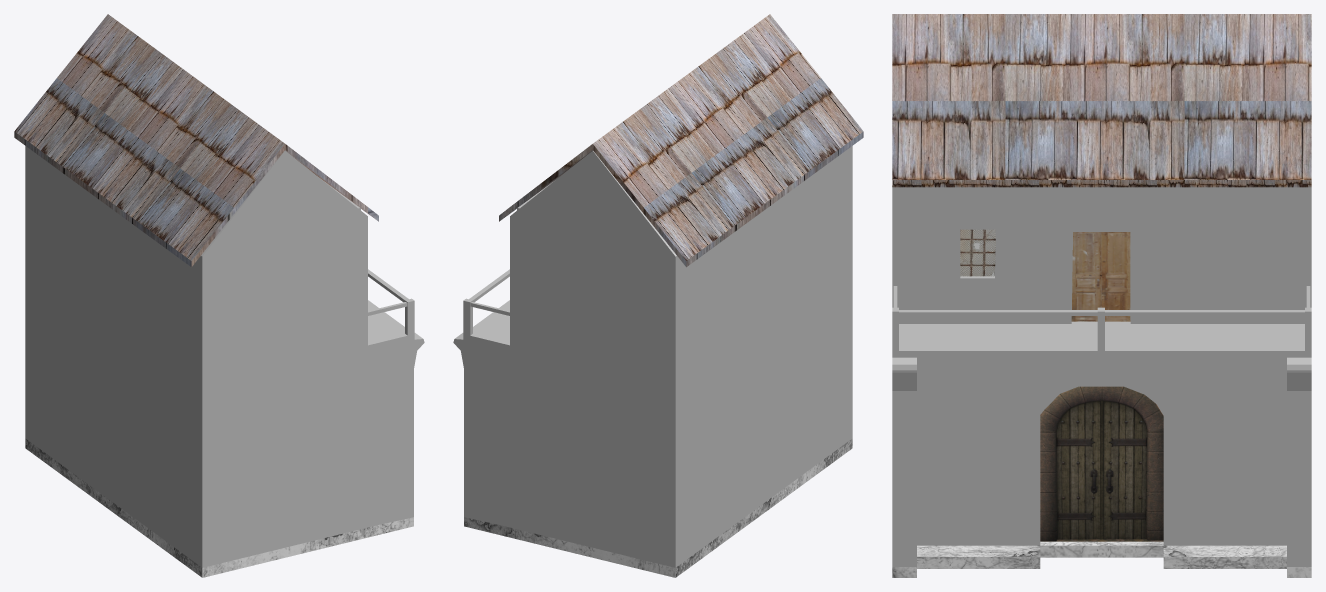
File: buldeng  2.fbx
3 views of the same model, side by side, from view 1: azimuth 30°, elevation 25°; view 2: azimuth 150°, elevation 25°; view 3: azimuth 270°, elevation 25° (orthographic). The views are drawn at different scales.
Visible parts, largest first — view 1: Cube; view 2: Cube; view 3: Cube.
Part boxes in pixels (x1,y1,x2,y2): Cube: [14, 14, 424, 577]; Cube: [453, 14, 863, 577]; Cube: [892, 14, 1311, 577].
Bounding box in the file's own units: 152 × 258 × 200.
